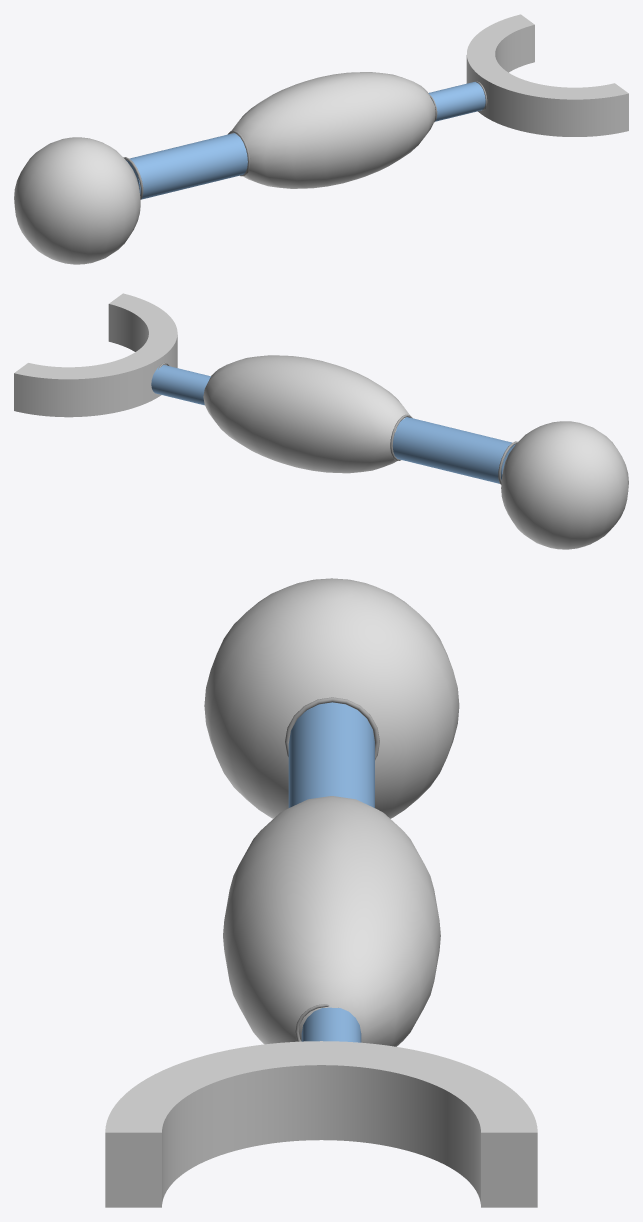
Rendered from DetaLeftArm.fbx.
3 renders of one model, top to bottom at view 1: azimuth 30°, elevation 25°; view 2: azimuth 150°, elevation 25°; view 3: azimuth 270°, elevation 25°, orthographic. The views are drawn at different scales.
Parts seen in each view (by area): view 1: DetaLeftArm; view 2: DetaLeftArm; view 3: DetaLeftArm.
Part boxes in pixels (x1,y1,x2,y2): DetaLeftArm: (14,14,628,264); DetaLeftArm: (14,293,628,549); DetaLeftArm: (105,578,537,1207).
Bounding box in the file's own units: 1.51 × 0.3031 × 0.5134.
